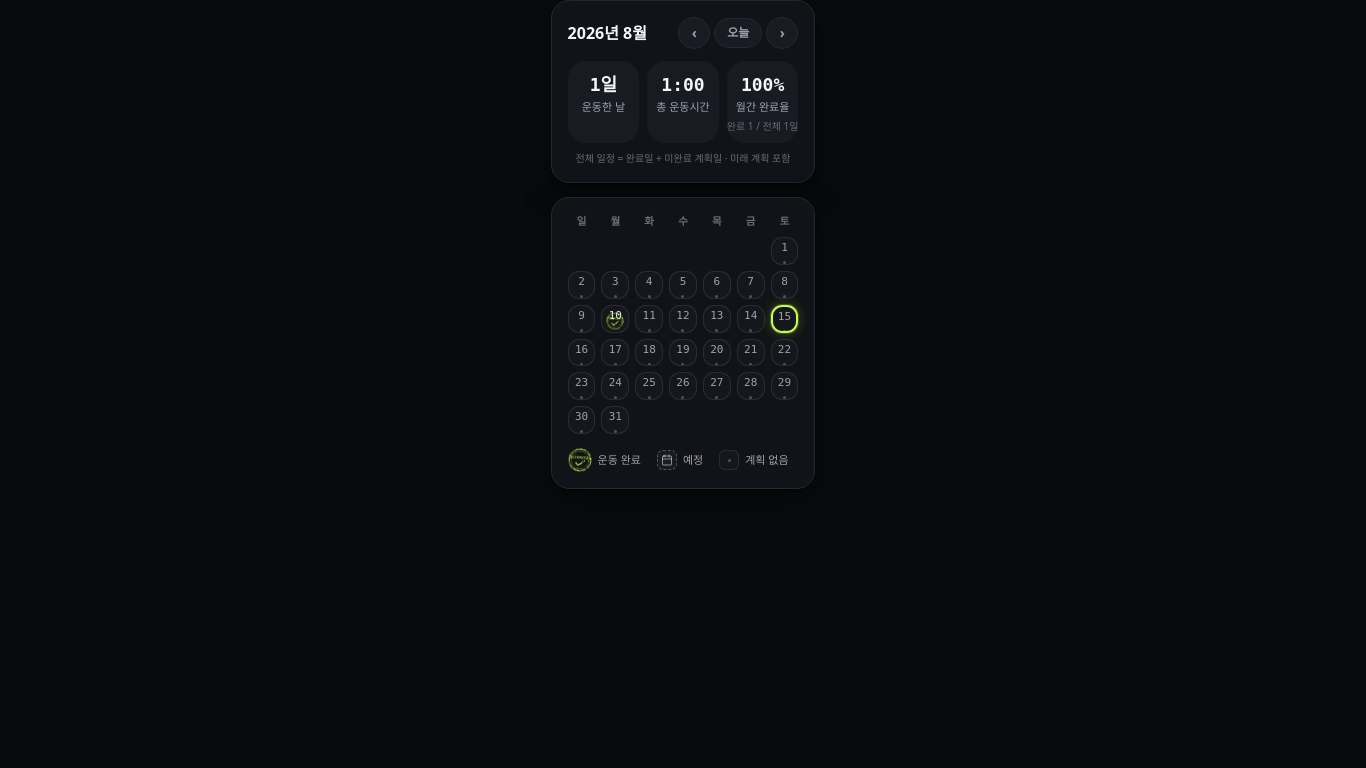
CalendarView — 지난 기록 상세 (2026-08-04) › 다시 누르면 접힌다
Expected: the heading "2026년 8월" is shown, [568,21,647,45]
Click the button with aria-label "8월 10일,".
click(615, 319)  # box [601,305,629,333]
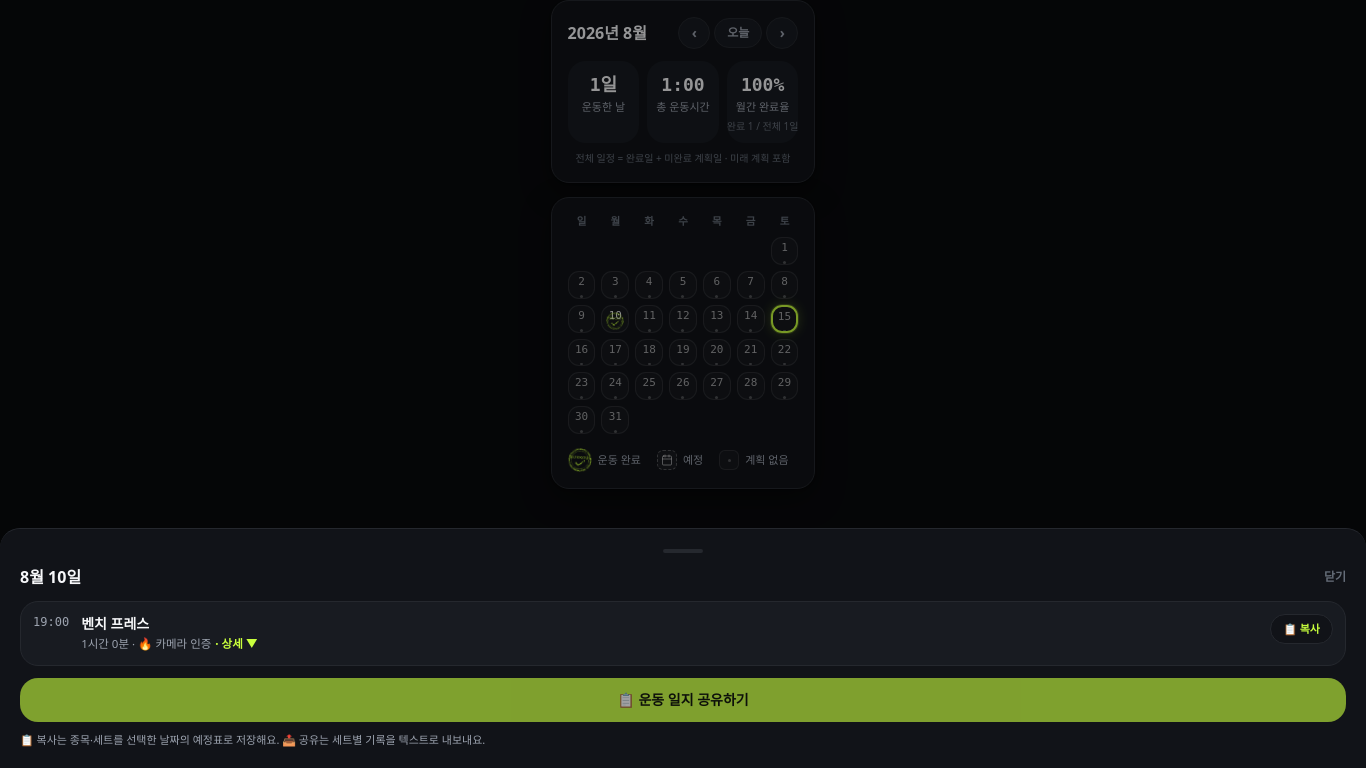
Click the button with aria-label "운동 상세".
click(115, 624)  # box [81,614,1258,653]
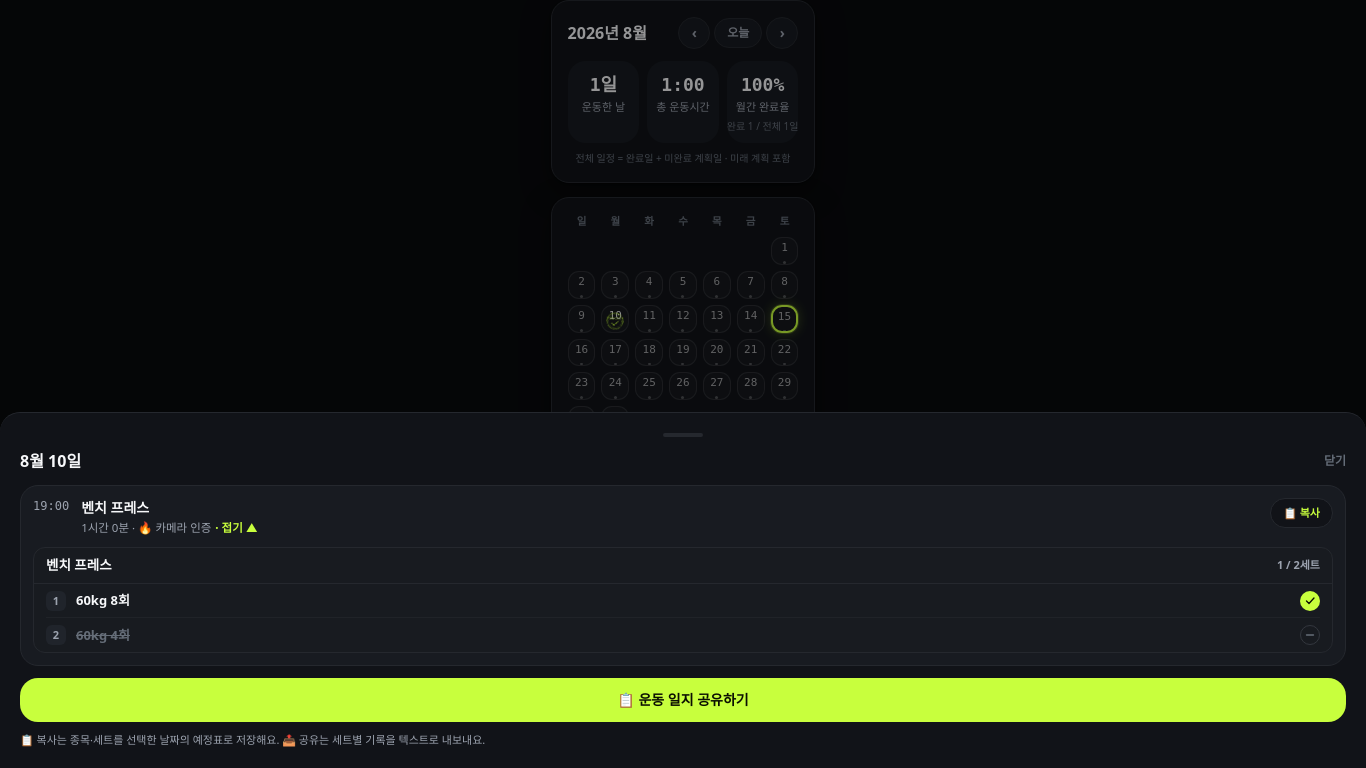
Expected: the text "60kg 8회" is shown, [76,591,130,609]
Click the button with aria-label "운동 상세".
click(115, 507)  # box [81,498,1258,536]
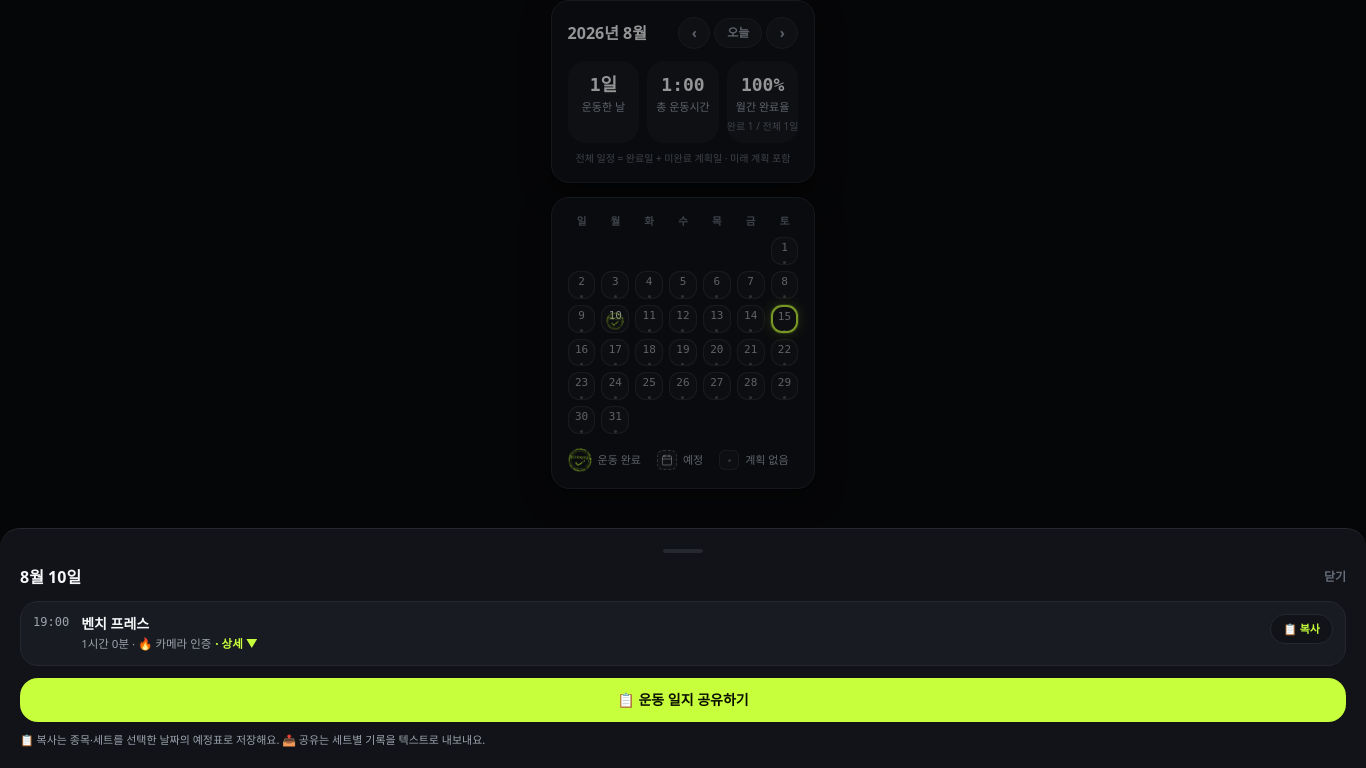
Expected: the text "60kg 8회" is gone
